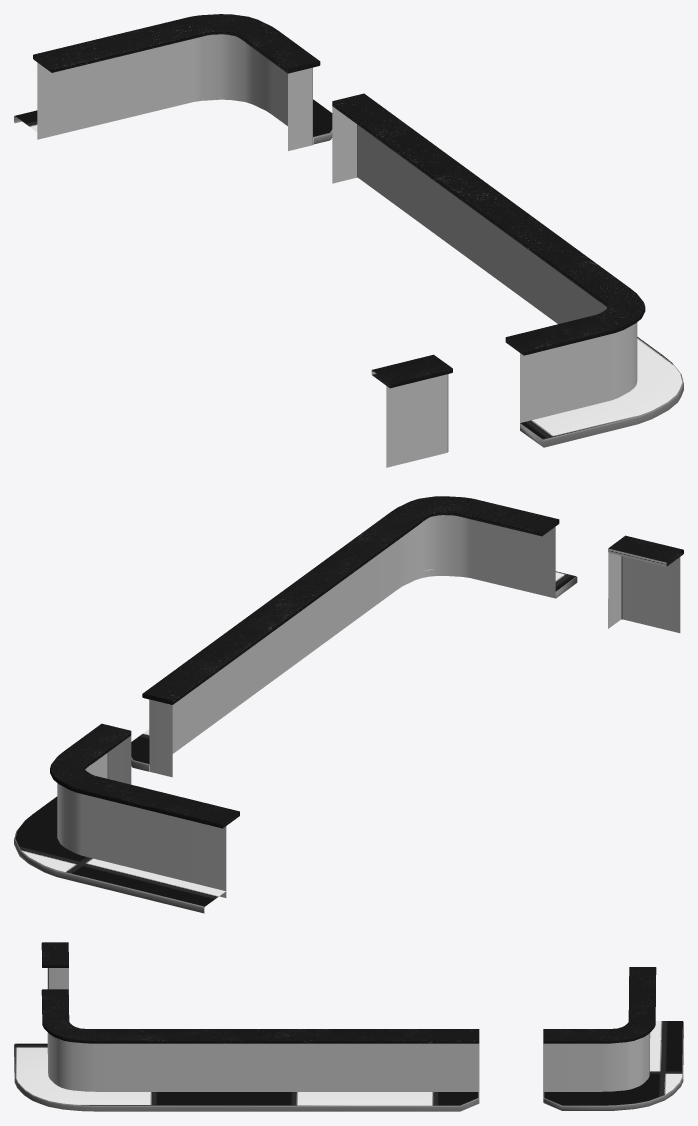
File: Diner_Counter_Final.fbx
3 views of the same model, one above another, from view 1: azimuth 30°, elevation 25°; view 2: azimuth 150°, elevation 25°; view 3: azimuth 270°, elevation 25° (orthographic). The views are drawn at different scales.
Parts seen in each view (by area): view 1: Counter_P4.001; view 2: Counter_P4.001; view 3: Counter_P4.001.
Part boxes in pixels (x1,y1,x2,y2): Counter_P4.001: [14, 14, 683, 467]; Counter_P4.001: [14, 496, 683, 913]; Counter_P4.001: [14, 942, 683, 1111].
Size of the model in its own units: 441 by 118 by 1140.
